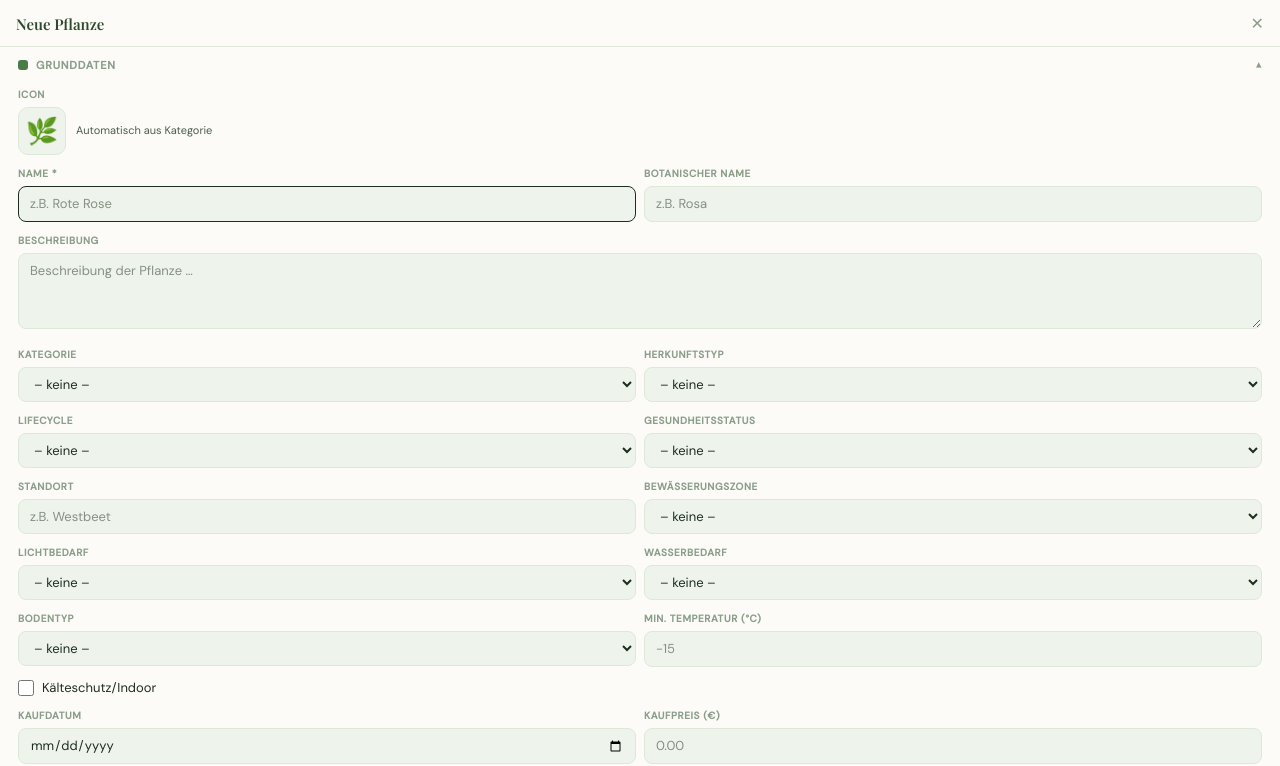
Test: PlantEditDialog — icon picker (AC #3) › selecting an icon closes the picker and updates preview
Click the button with test id "icon-preview" at (42, 131), box [18, 107, 66, 155]
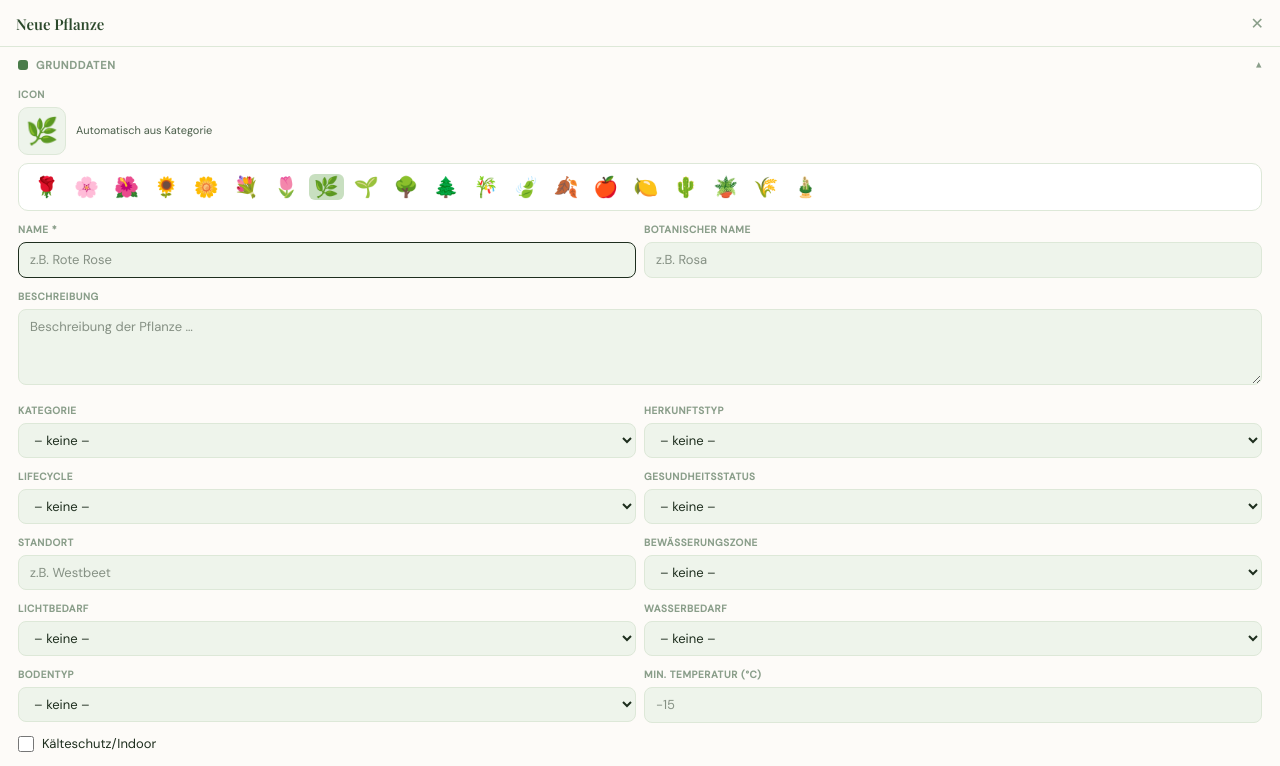
Click the button with test id "icon-opt-🌸" at (86, 187), box [69, 174, 104, 200]
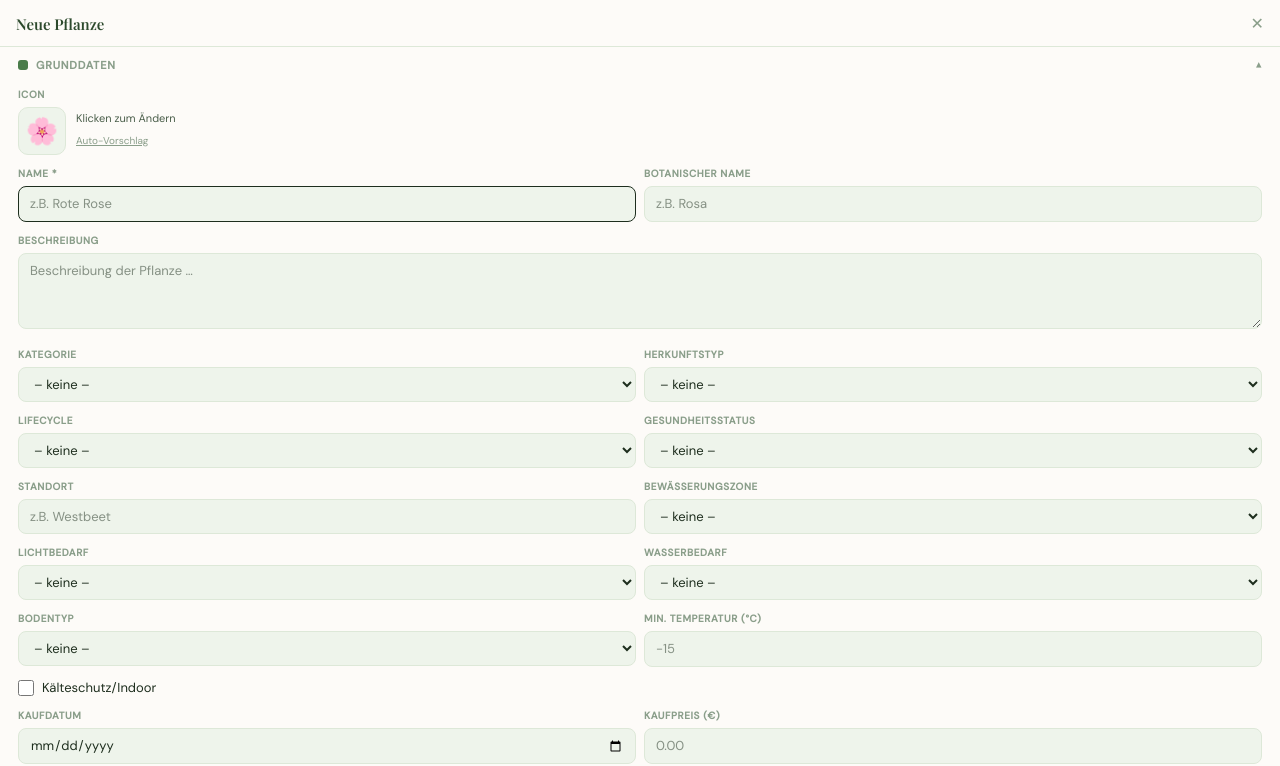
Result: the element with test id "icon-picker" is gone
Result: the button with test id "icon-preview" reads "🌸" at [18, 107, 66, 155]
